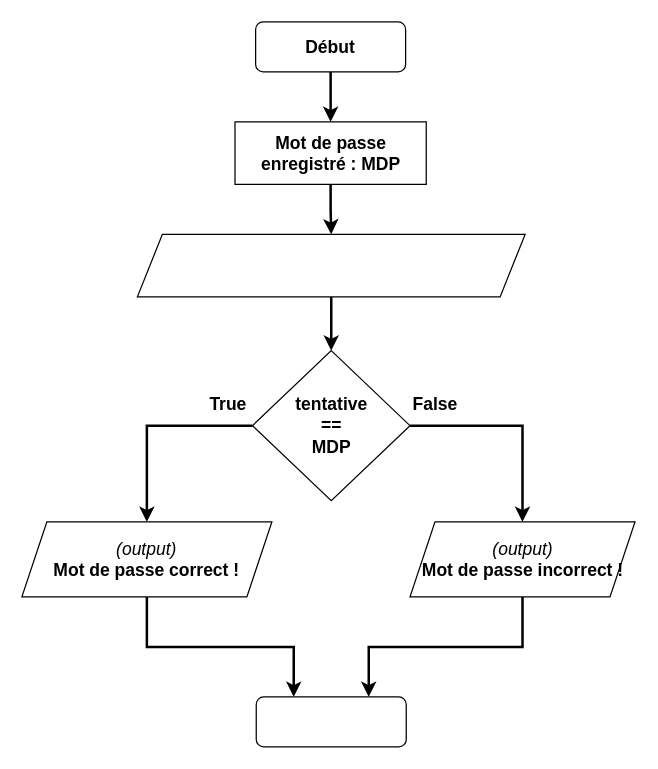
Some shapes in this 658 by 769 pixel diagram are drawn without their labels. The centre of each missing label's shape, as x and y in pixels:
"(input) Entrez votre mot de passe : tentative" goes at pixel 330 265.
"Fin" goes at pixel 330 721.
